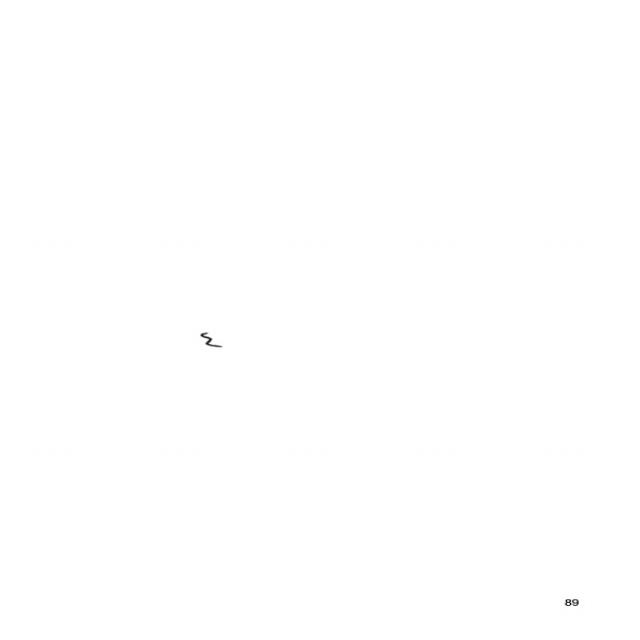4 -four-: (198, 331, 225, 349)
